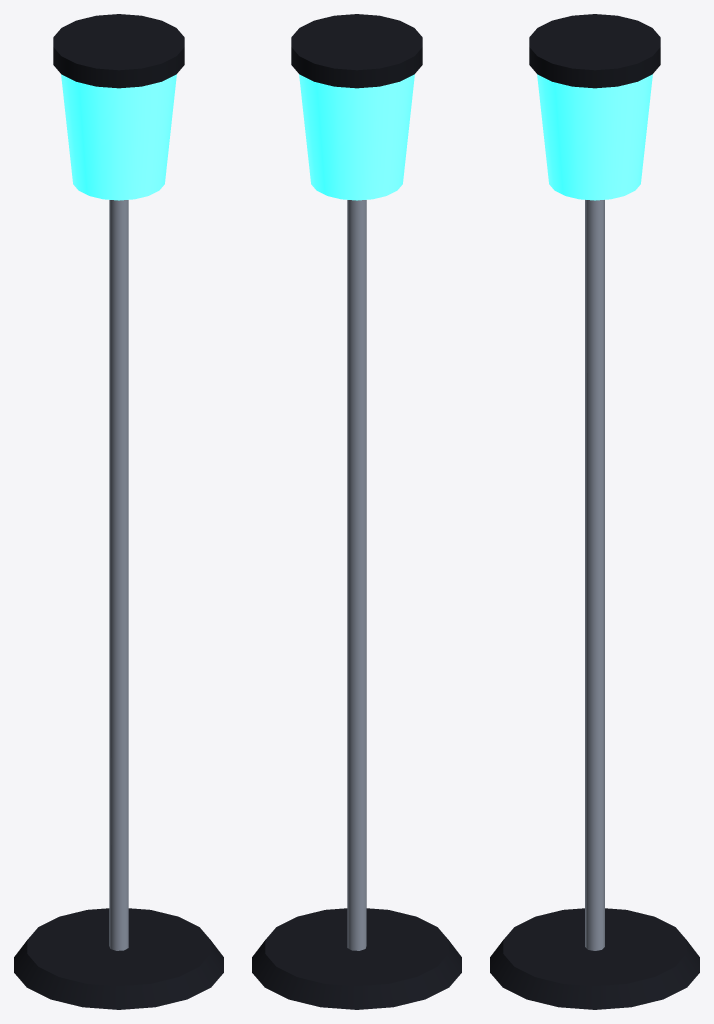
File: decor_cool_0.glb
The picture shows the model from 3 angles, left to right: view 1: azimuth 30°, elevation 25°; view 2: azimuth 150°, elevation 25°; view 3: azimuth 270°, elevation 25°; orthographic projection.
Size of the model in its own units: 0.32 by 1.53 by 0.3151.
